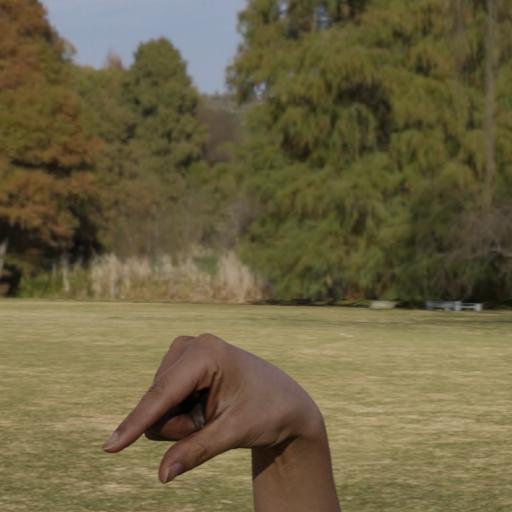Q: (97, 324, 338, 494)
